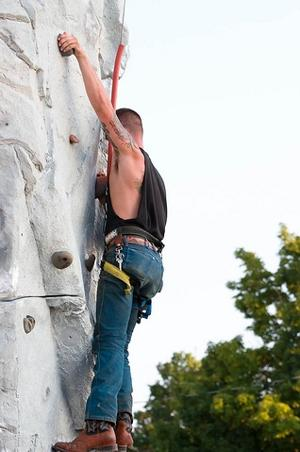person: (56, 33, 167, 452)
